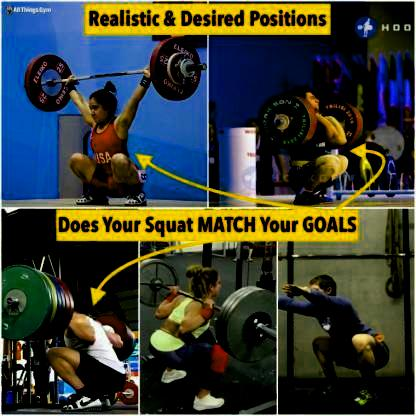Barbell: (5, 296, 16, 308), (199, 59, 209, 72), (274, 118, 284, 128)
